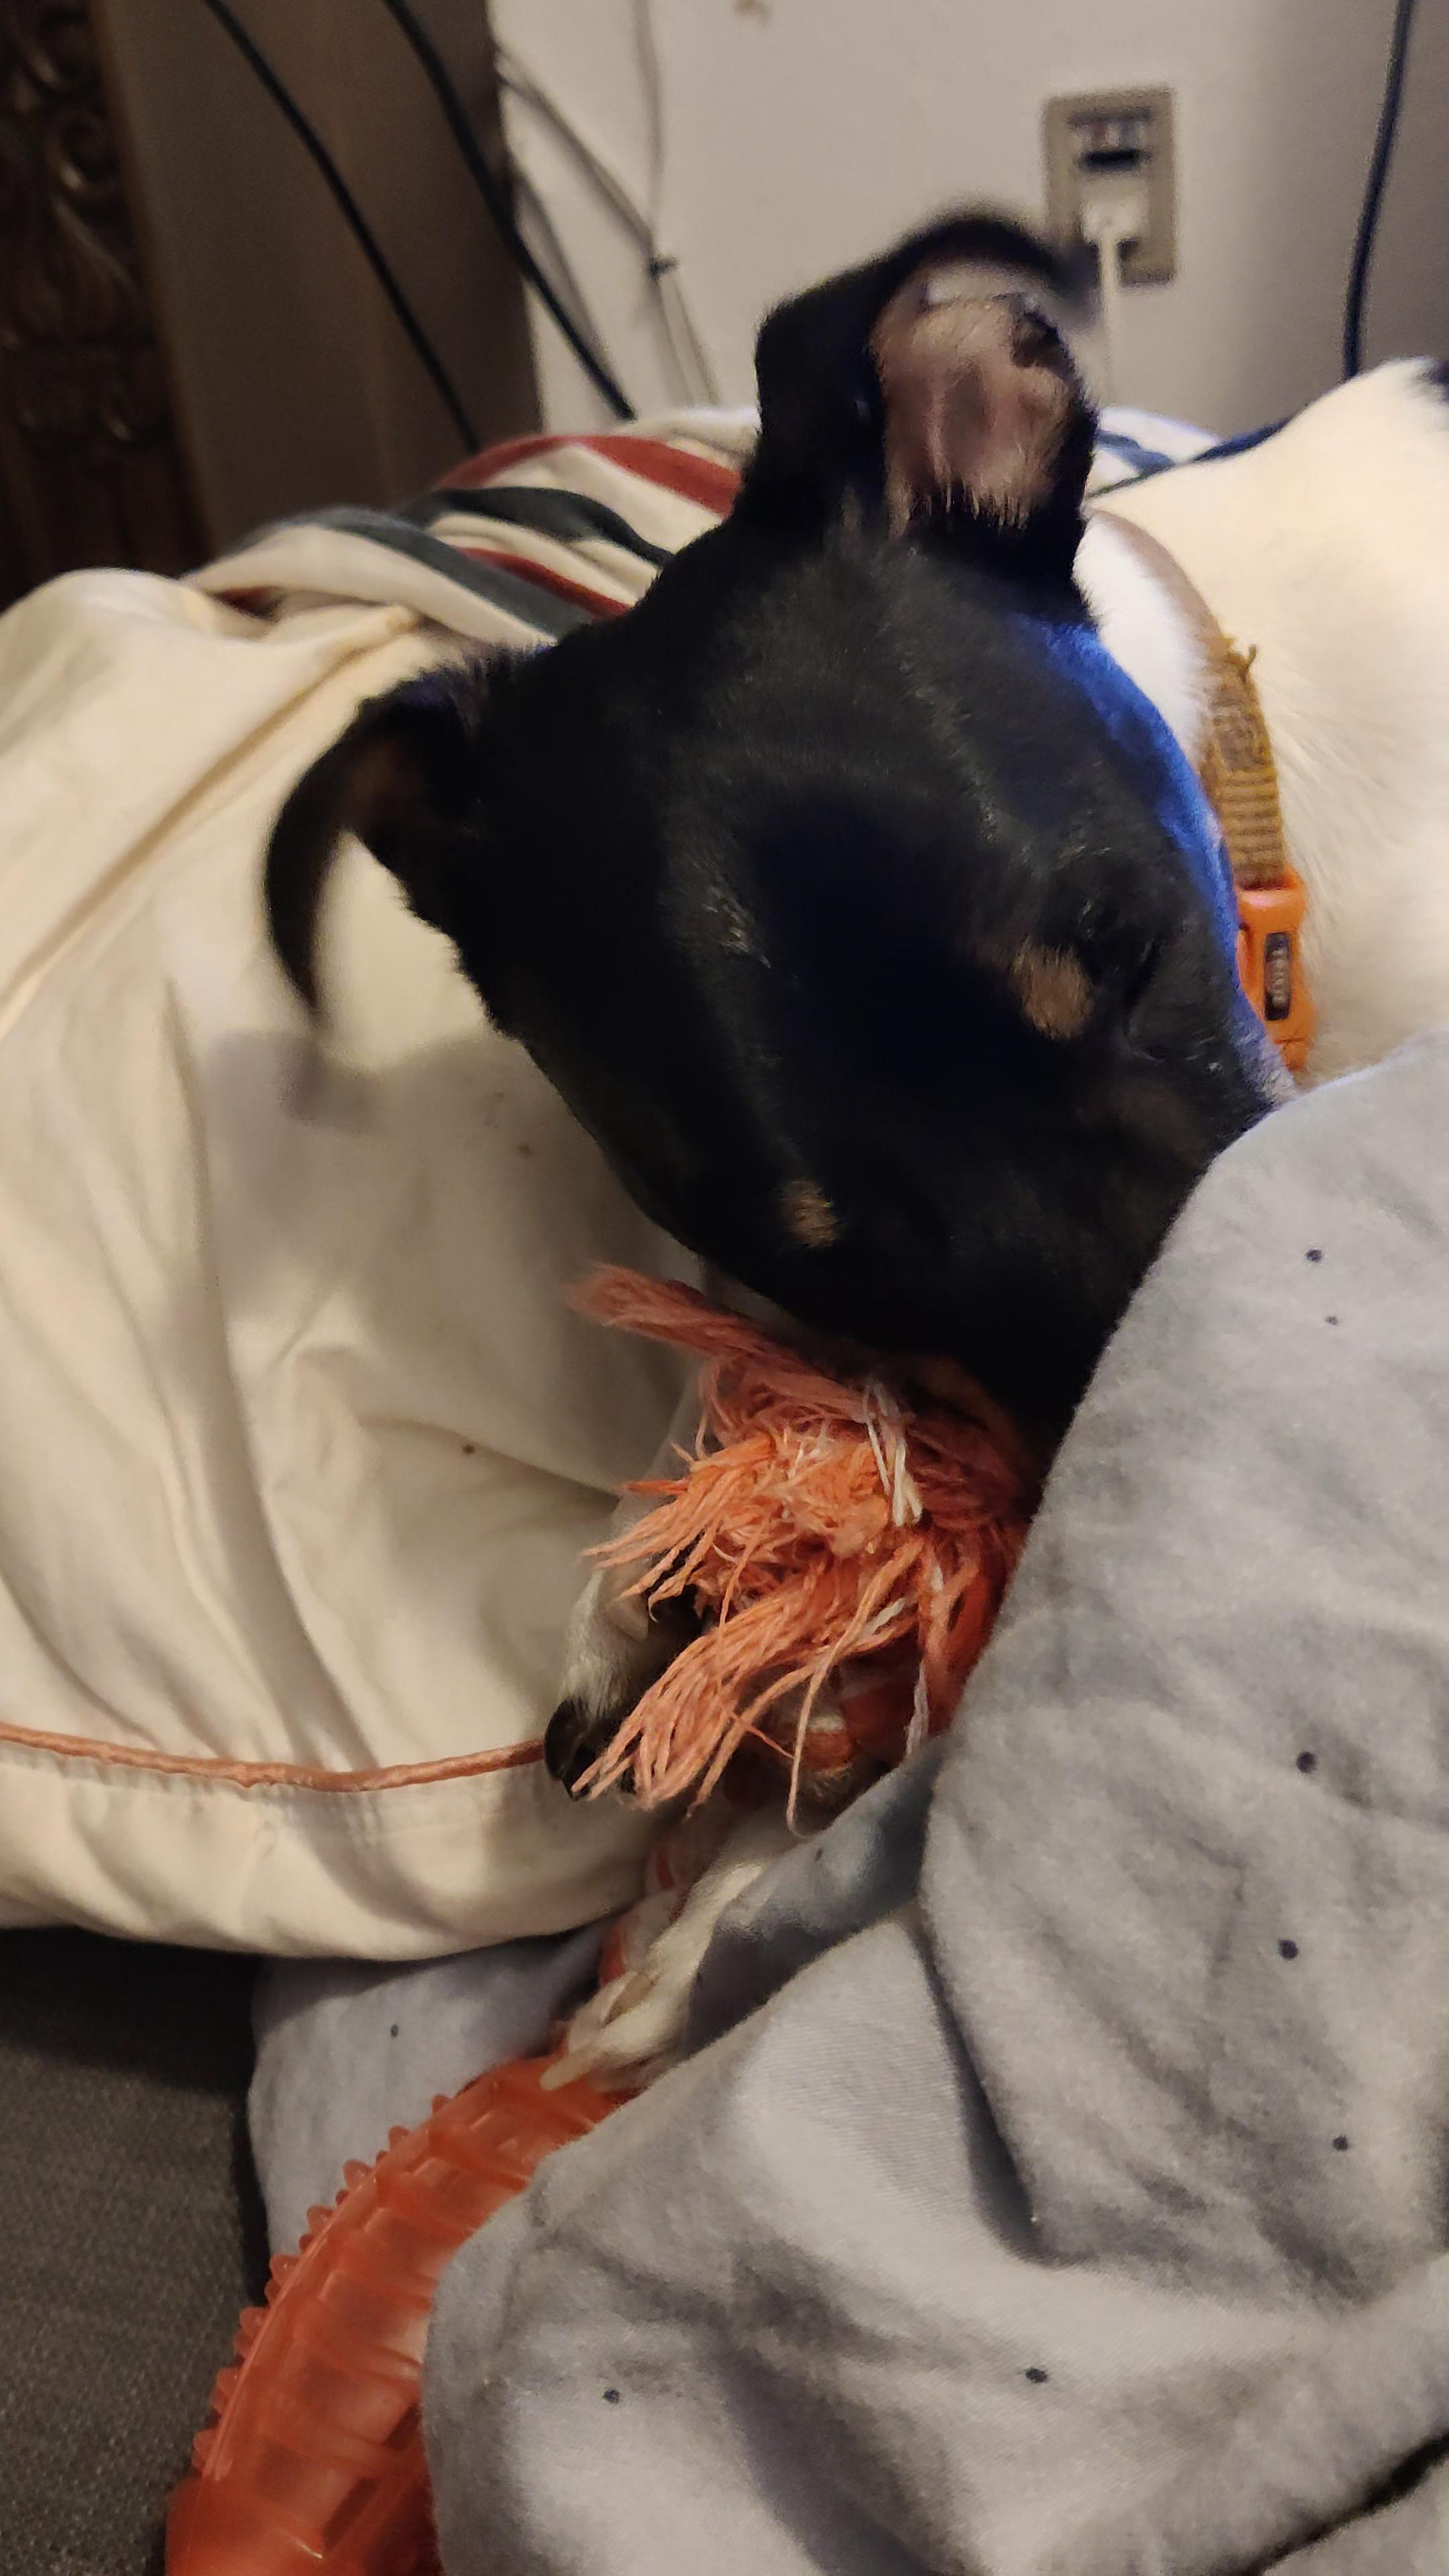Dog: (235, 180, 1449, 2116)
